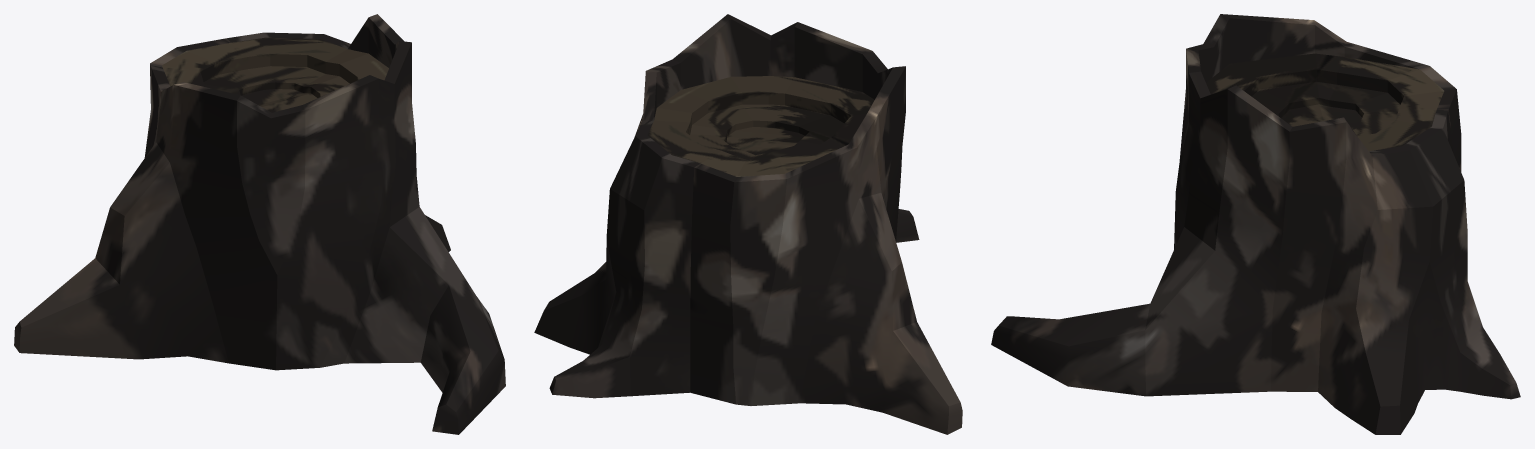
Rendered from Volcanic Stump.obj.
3 views of the same model, side by side, from view 1: azimuth 30°, elevation 25°; view 2: azimuth 150°, elevation 25°; view 3: azimuth 270°, elevation 25° (orthographic). The views are drawn at different scales.
Parts seen in each view (by area): view 1: Birch_Stump:polySurface1; view 2: Birch_Stump:polySurface1; view 3: Birch_Stump:polySurface1.
Boxes of the visible parts, x1,y1,x2,y2 form: Birch_Stump:polySurface1: (14,14,505,434); Birch_Stump:polySurface1: (534,14,962,434); Birch_Stump:polySurface1: (991,14,1520,434).
Bounding box in the file's own units: 65.28 × 42.31 × 69.56.
Materials: 1 (1 with a texture image).
